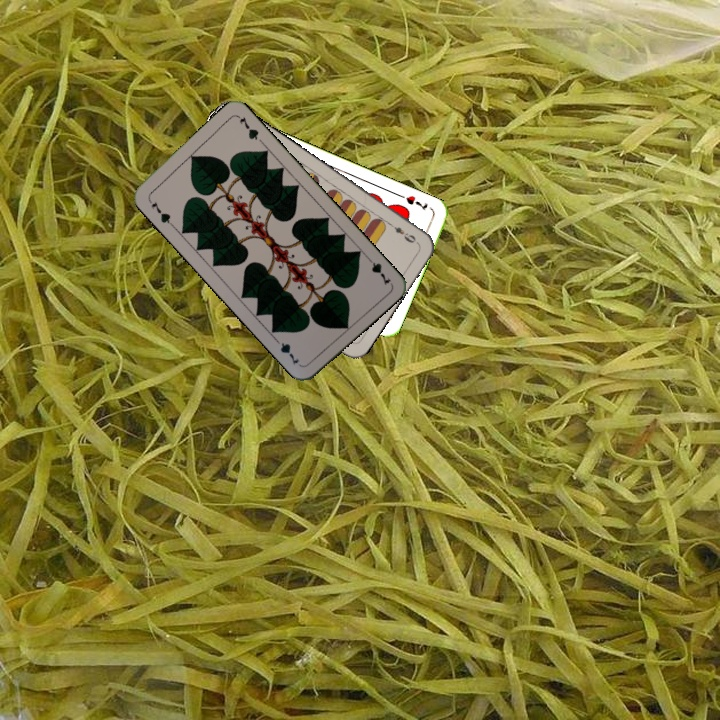E9: (385, 219, 419, 246)
G7: (362, 252, 393, 288), (148, 197, 176, 228)
H7: (402, 191, 430, 213)
